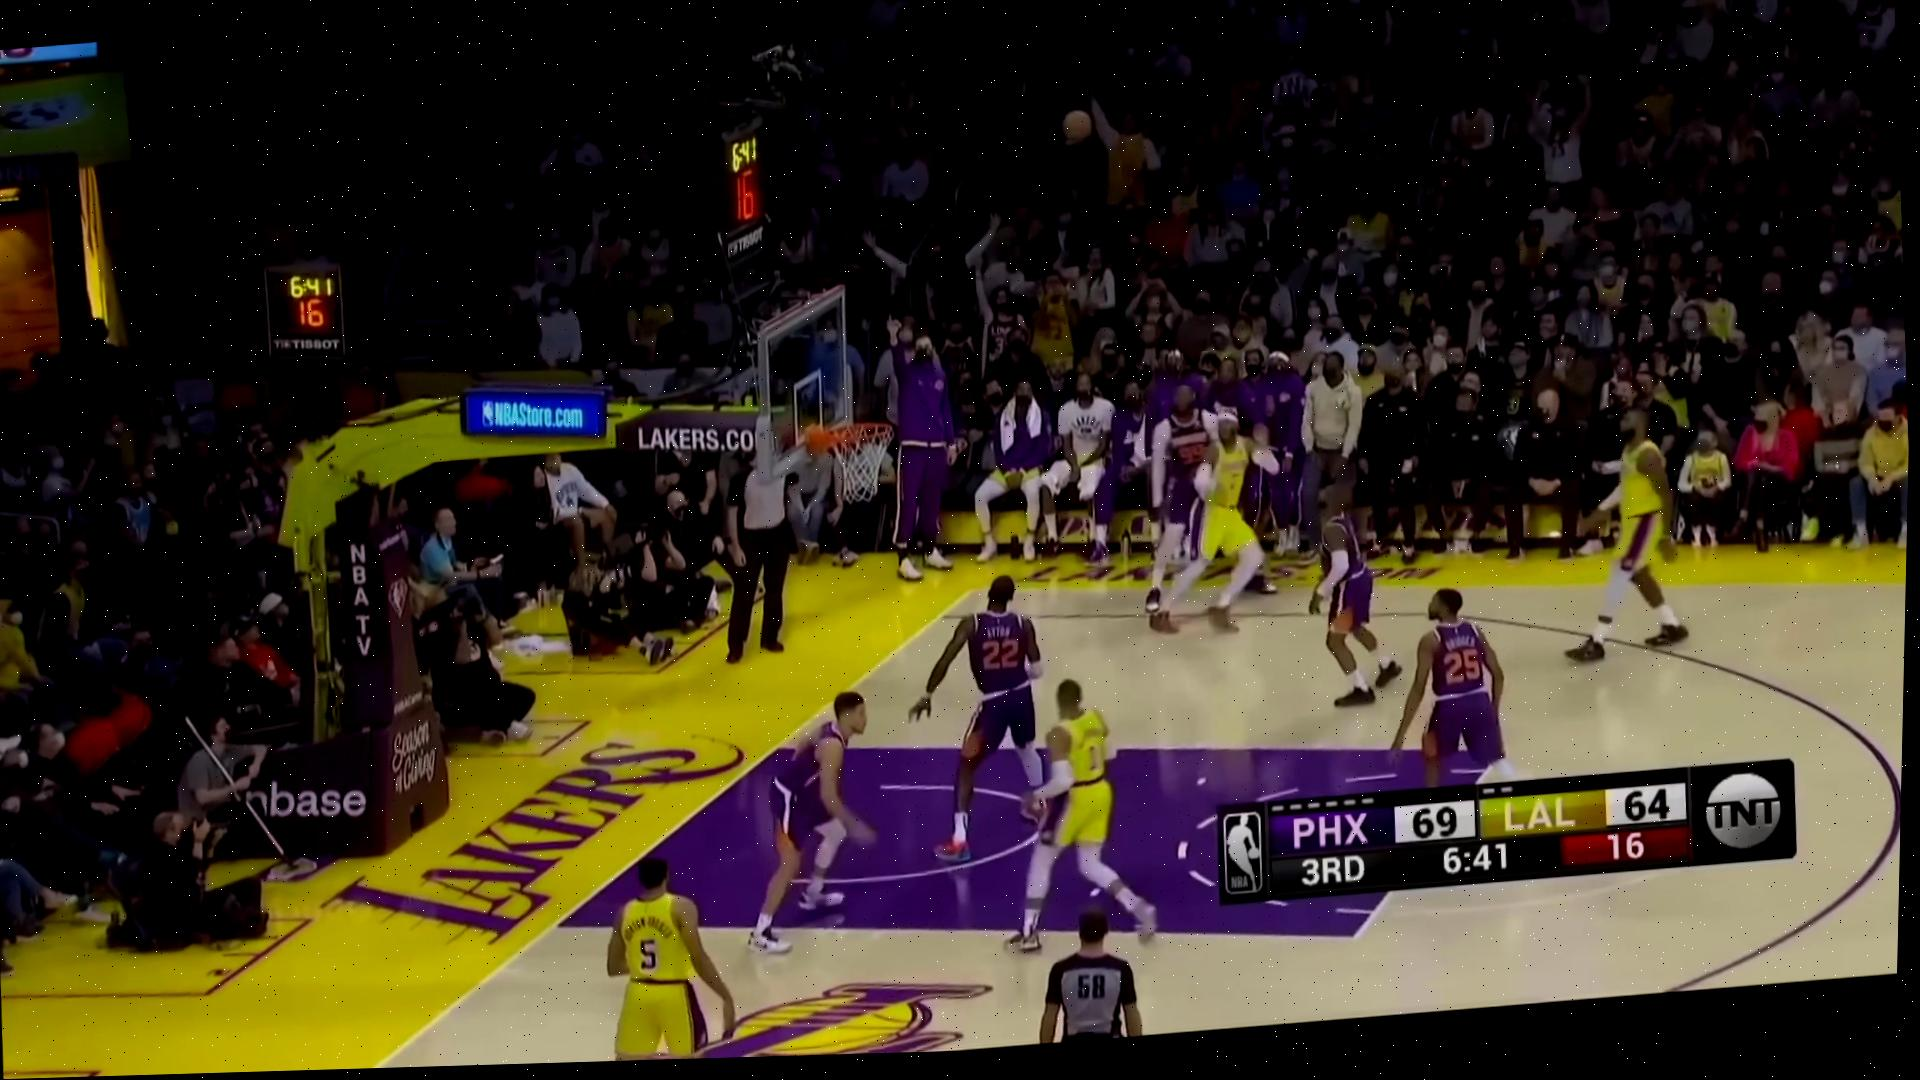no_foul: (914, 570, 1179, 947)
